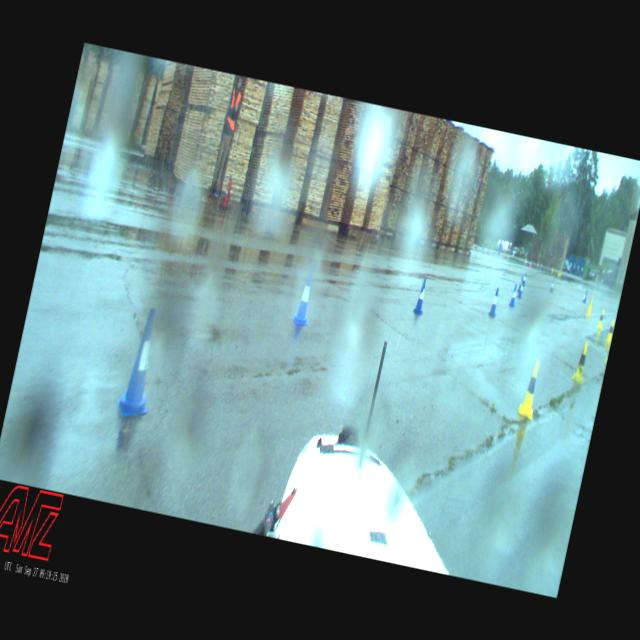blue_cone: (118, 306, 164, 416), (294, 268, 316, 326), (414, 277, 428, 314), (488, 286, 501, 316), (508, 284, 518, 306), (517, 280, 524, 297), (517, 275, 522, 291), (582, 290, 588, 302), (522, 272, 526, 284), (550, 280, 554, 291), (538, 261, 541, 270), (540, 262, 543, 270), (514, 253, 517, 260), (498, 246, 500, 254), (525, 258, 527, 265), (474, 242, 476, 248), (490, 248, 492, 254), (475, 244, 477, 248)
orange_cone: (529, 260, 532, 267), (484, 247, 486, 254), (503, 254, 505, 259)
yellow_cone: (517, 358, 543, 418), (572, 341, 590, 383), (605, 318, 615, 344), (596, 310, 606, 330), (586, 301, 592, 316), (586, 296, 592, 310), (551, 266, 553, 273), (558, 268, 560, 275), (560, 268, 562, 275), (472, 242, 474, 248), (524, 258, 526, 263), (536, 262, 538, 266), (507, 252, 509, 256)
